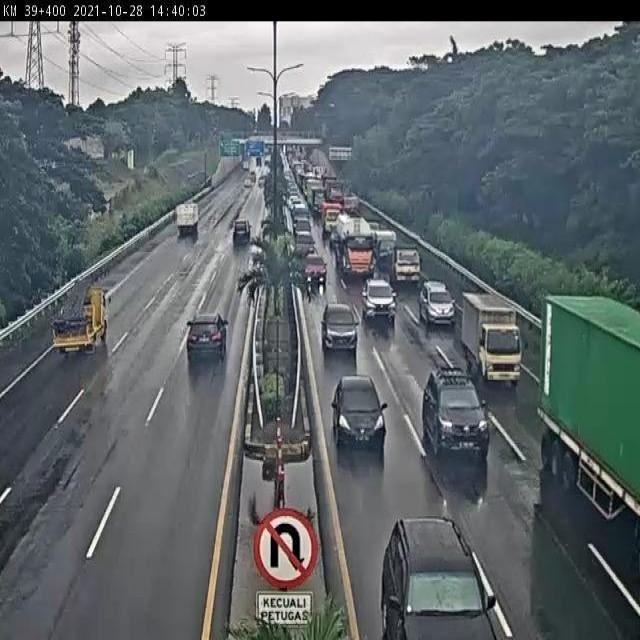big truck: (541, 292, 640, 523), (334, 209, 376, 280)
car: (419, 366, 489, 454), (331, 378, 387, 451), (321, 298, 358, 346), (419, 281, 455, 328), (187, 316, 226, 359), (362, 277, 397, 319), (302, 255, 328, 284)
mid truck: (233, 222, 250, 242)
small truck: (461, 292, 522, 384), (50, 277, 109, 356), (388, 237, 424, 284)
